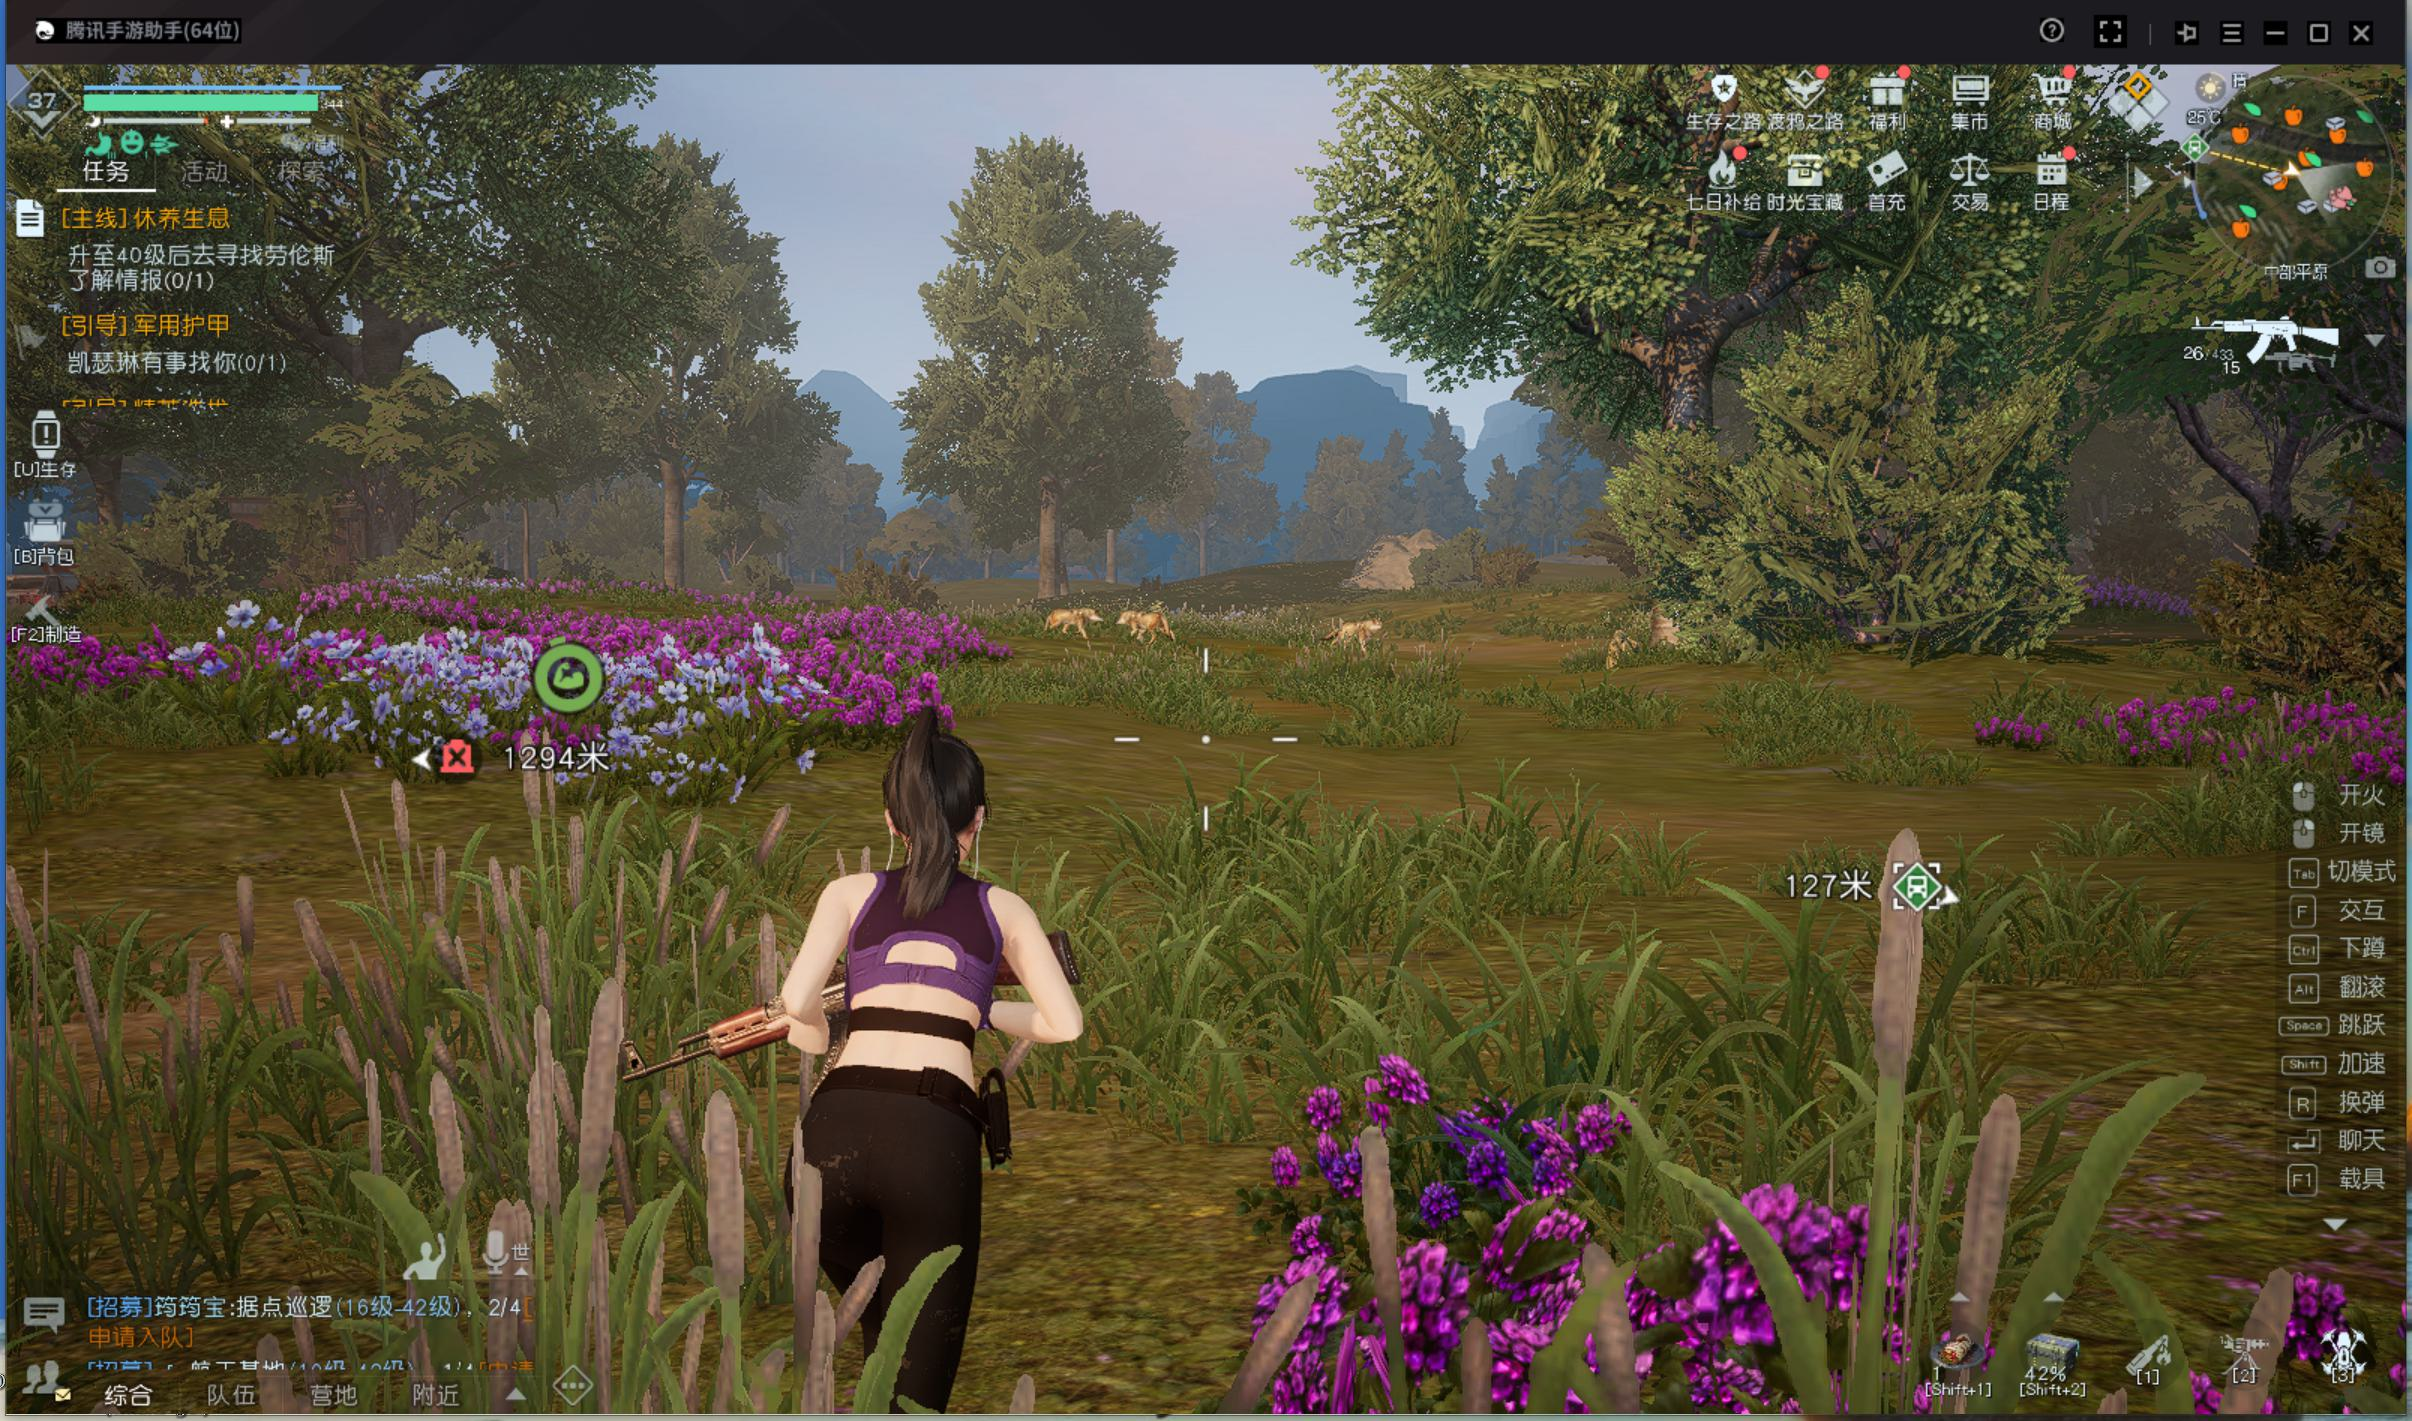tree: (1028, 494, 1072, 602), (655, 484, 695, 590)
